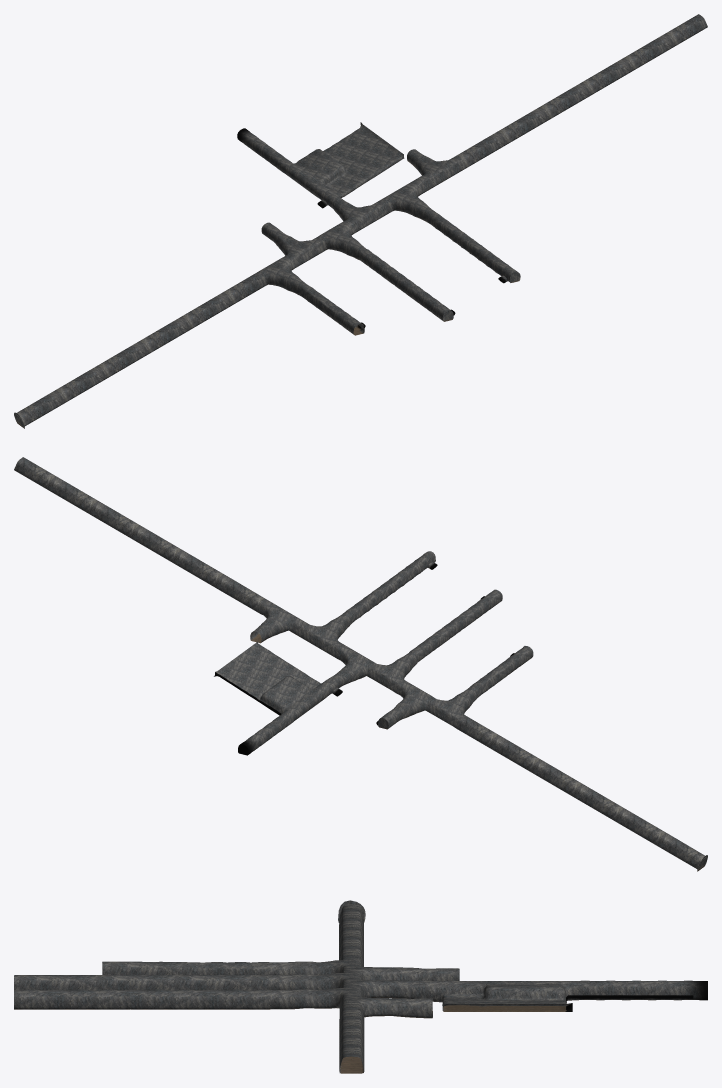
File: piece.obj
The picture shows the model from 3 angles, top to bottom: view 1: azimuth 30°, elevation 25°; view 2: azimuth 150°, elevation 25°; view 3: azimuth 270°, elevation 25°; orthographic projection. The views are drawn at different scales.
Visible parts, largest first — view 1: SlopeB; view 2: SlopeB; view 3: SlopeB.
Part boxes in pixels (x1,y1,x2,y2): SlopeB: [14, 14, 707, 428]; SlopeB: [14, 457, 707, 871]; SlopeB: [14, 900, 707, 1073].
Bounding box in the file's own units: 146 × 49.78 × 84.67.
6 materials, 6 textured.
